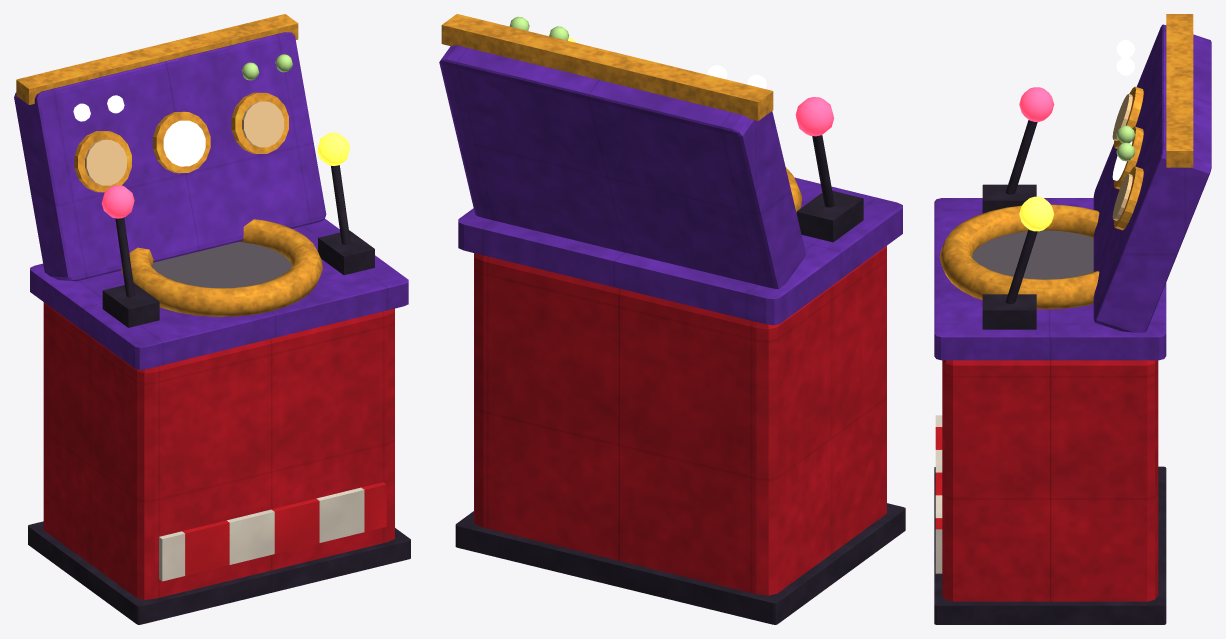
File: CUR_Socket_RedButton.fbx
3 renders of one model, left to right at view 1: azimuth 30°, elevation 25°; view 2: azimuth 150°, elevation 25°; view 3: azimuth 270°, elevation 25°, orthographic. The views are drawn at different scales.
Parts seen in each view (by area): view 1: CUR_Socket_RedButton, Socket_RedButton; view 2: CUR_Socket_RedButton; view 3: CUR_Socket_RedButton, Socket_RedButton.
Part boxes in pixels (x1,y1,x2,y2): CUR_Socket_RedButton: [14, 14, 410, 624]; Socket_RedButton: [152, 242, 291, 288]; CUR_Socket_RedButton: [439, 14, 905, 624]; CUR_Socket_RedButton: [934, 14, 1211, 624]; Socket_RedButton: [972, 230, 1093, 279].
Size of the model in its own units: 1.22 by 1.93 by 1.03.
